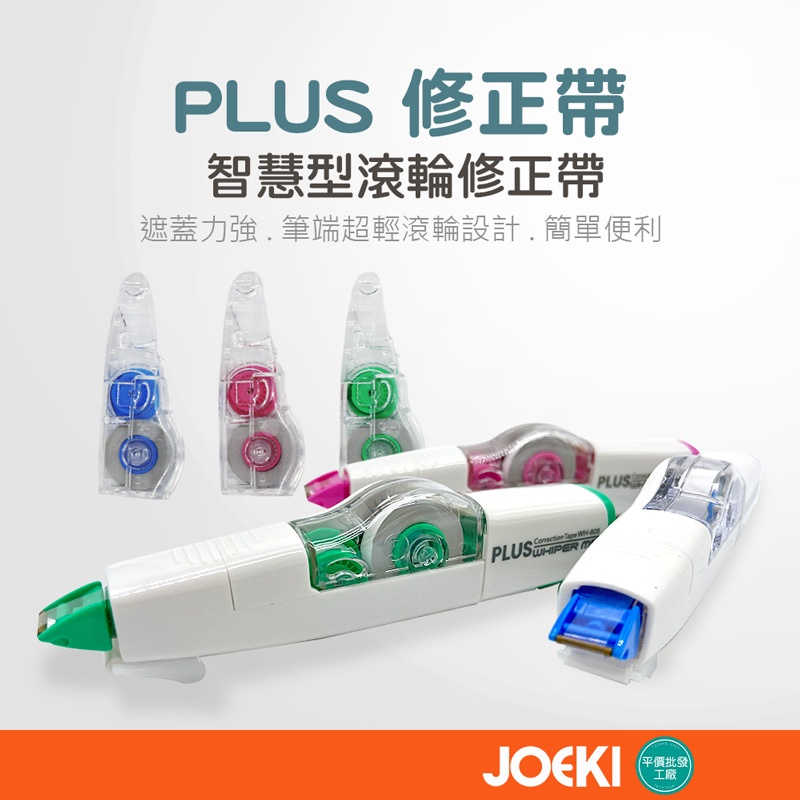correction tape: (38, 480, 618, 684)
